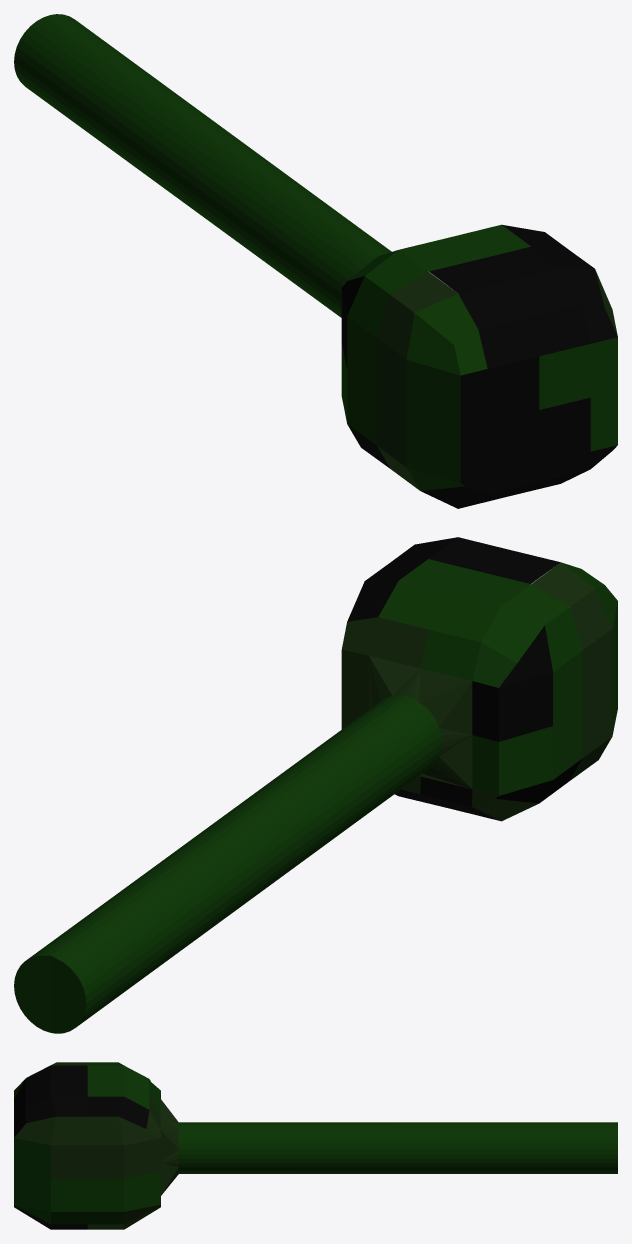
File: leb.fbx
3 views of the same model, one above another, from view 1: azimuth 30°, elevation 25°; view 2: azimuth 150°, elevation 25°; view 3: azimuth 270°, elevation 25° (orthographic). The views are drawn at different scales.
Parts seen in each view (by area): view 1: Cube; view 2: Cube; view 3: Cube.
Part boxes in pixels (left/top/right/bottom): Cube: left=14, top=14, right=617, bottom=508; Cube: left=14, top=537, right=617, bottom=1033; Cube: left=14, top=1062, right=617, bottom=1229.
Size of the model in its own units: 161 by 161 by 660.
